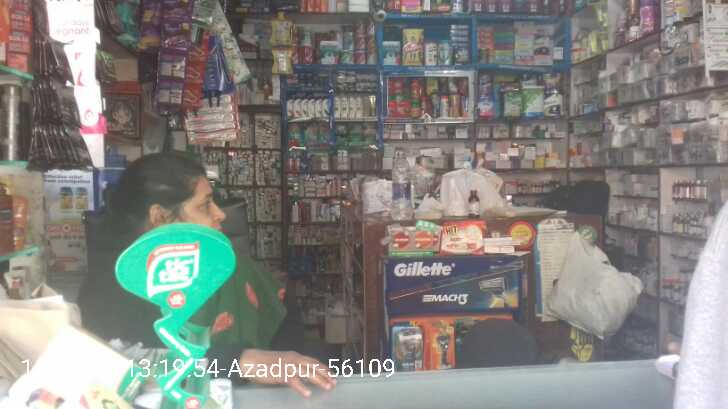vicks: (297, 70, 317, 91)
